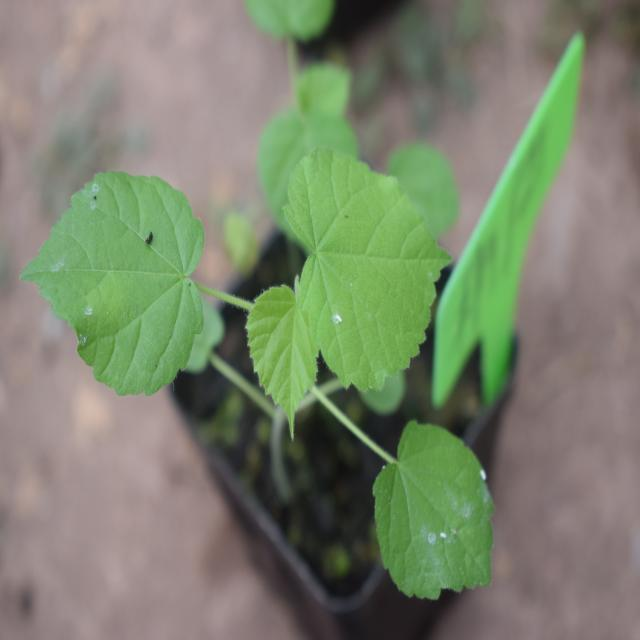abutilon theophrasti: (36, 140, 488, 602)
